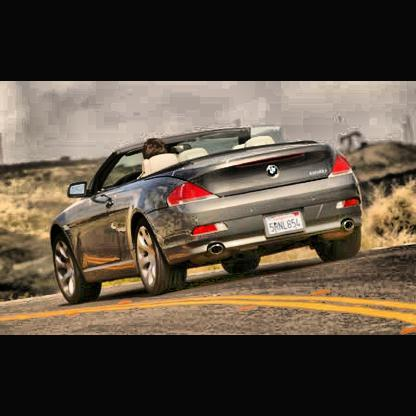BMW 6 Series Convertible 2007: (52, 127, 363, 304)
